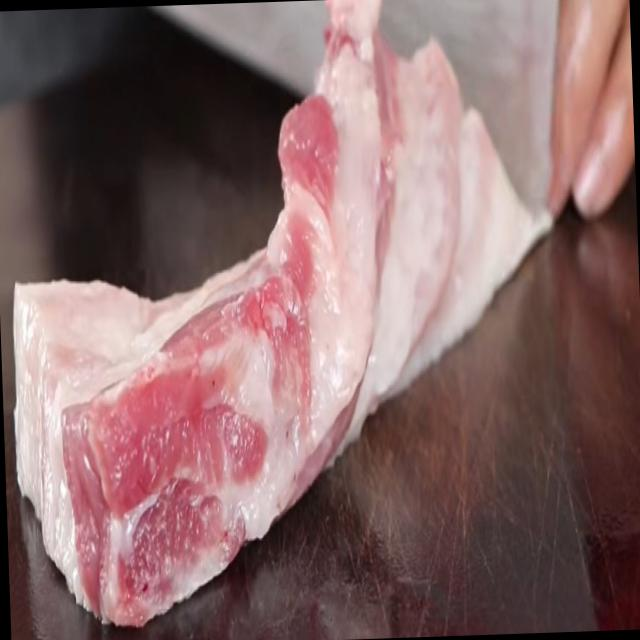--: (0, 5, 538, 634)
